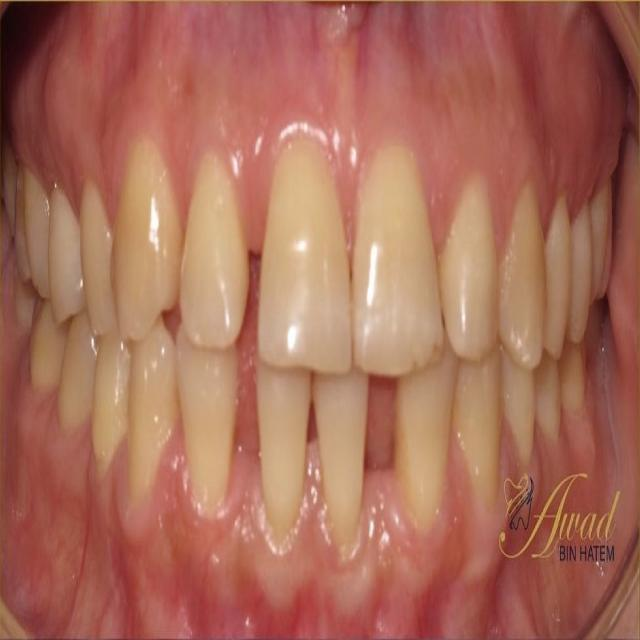tooth: (352, 95, 448, 382), (264, 154, 352, 377), (103, 144, 184, 328), (178, 158, 252, 349), (178, 344, 238, 531), (397, 370, 455, 544), (314, 382, 376, 543), (439, 194, 496, 366), (258, 366, 310, 538), (456, 357, 516, 501), (503, 180, 548, 361), (133, 344, 178, 488), (11, 162, 50, 280), (46, 184, 82, 309), (546, 193, 572, 356), (80, 193, 110, 321), (96, 348, 128, 461), (64, 317, 96, 421), (568, 198, 592, 336), (32, 294, 64, 388)
